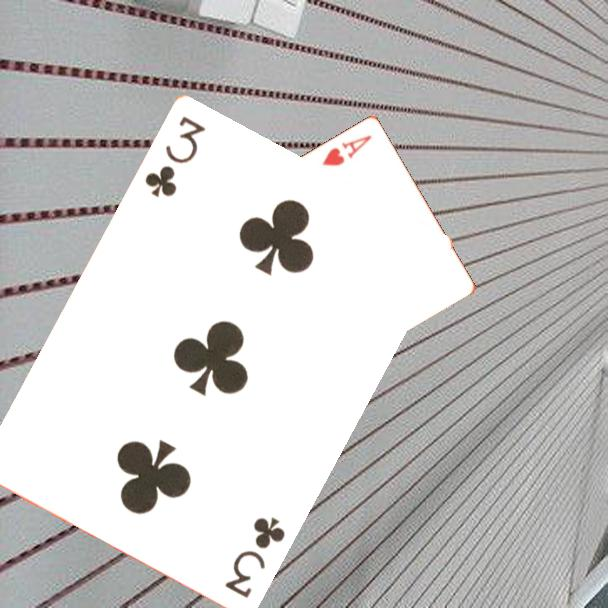c03: (140, 111, 208, 200), (220, 512, 288, 601)
h01: (319, 131, 374, 168)
